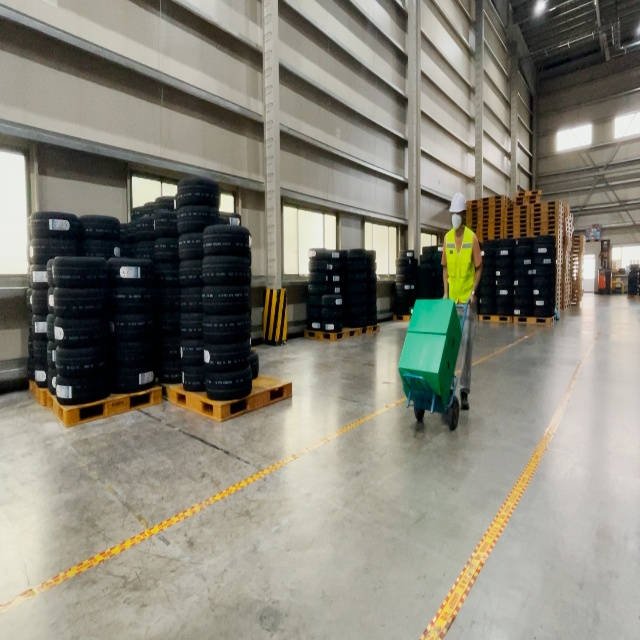Box: (398, 330, 456, 406), (407, 298, 463, 371)
Worker: (441, 192, 484, 412)
